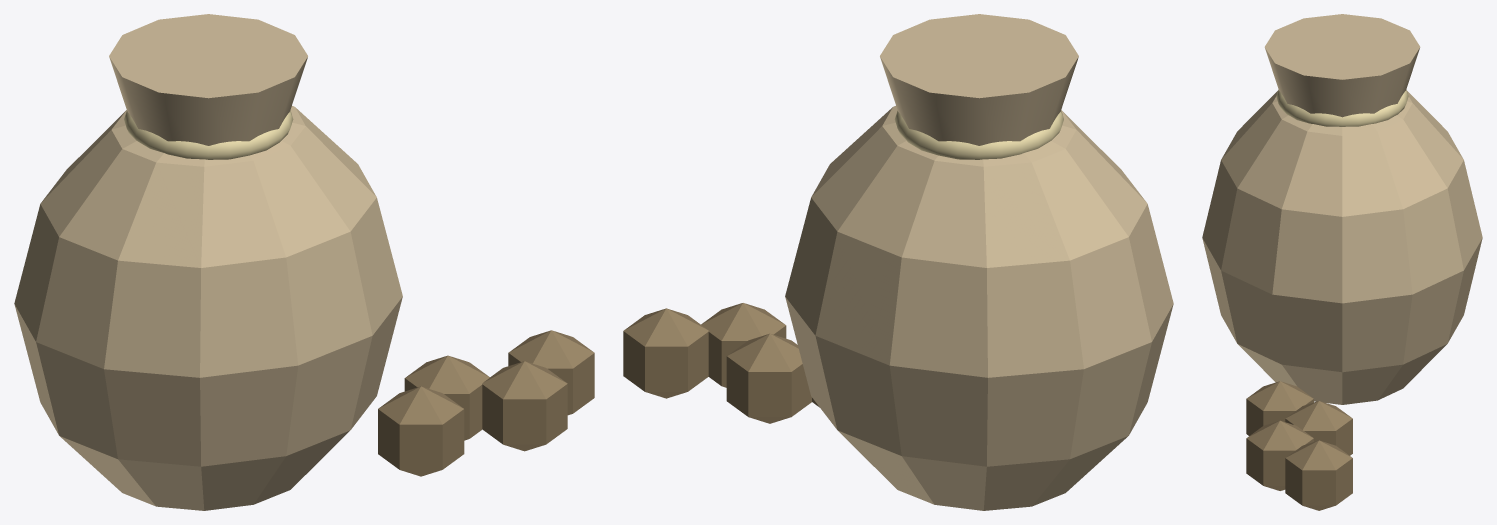
The model's file is fertilizer.glb.
3 views of the same model, side by side, from view 1: azimuth 30°, elevation 25°; view 2: azimuth 150°, elevation 25°; view 3: azimuth 270°, elevation 25° (orthographic). The views are drawn at different scales.
Parts seen in each view (by area): view 1: Fertilizer; view 2: Fertilizer; view 3: Fertilizer.
Part boxes in pixels (box(x1,y1,x2,y2)): Fertilizer: box(14, 14, 594, 510); Fertilizer: box(623, 14, 1173, 510); Fertilizer: box(1202, 14, 1482, 510).
Size of the model in its own units: 0.6175 by 0.49 by 0.36.
